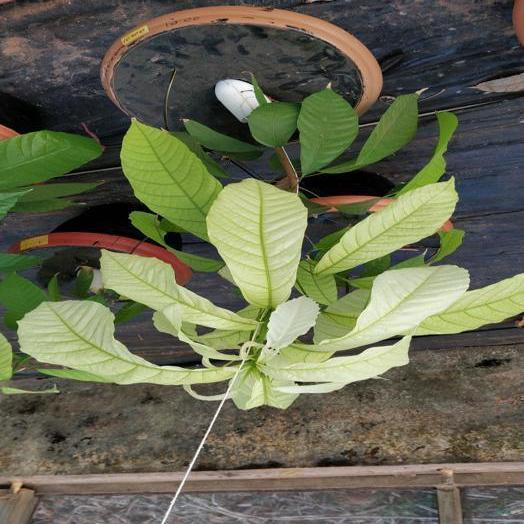Healthy Leaf: (325, 95, 417, 172), (0, 130, 101, 189), (297, 87, 357, 175), (397, 112, 457, 194), (0, 273, 46, 328), (248, 102, 298, 147)
Iron: (19, 302, 235, 383), (314, 179, 457, 273), (315, 265, 468, 351), (208, 179, 306, 307), (122, 119, 221, 240), (101, 251, 254, 329), (262, 337, 410, 383), (415, 274, 523, 335), (129, 211, 223, 272), (153, 305, 233, 359), (264, 296, 319, 352), (232, 364, 298, 409), (314, 290, 367, 342), (296, 260, 336, 304), (277, 383, 347, 393)
